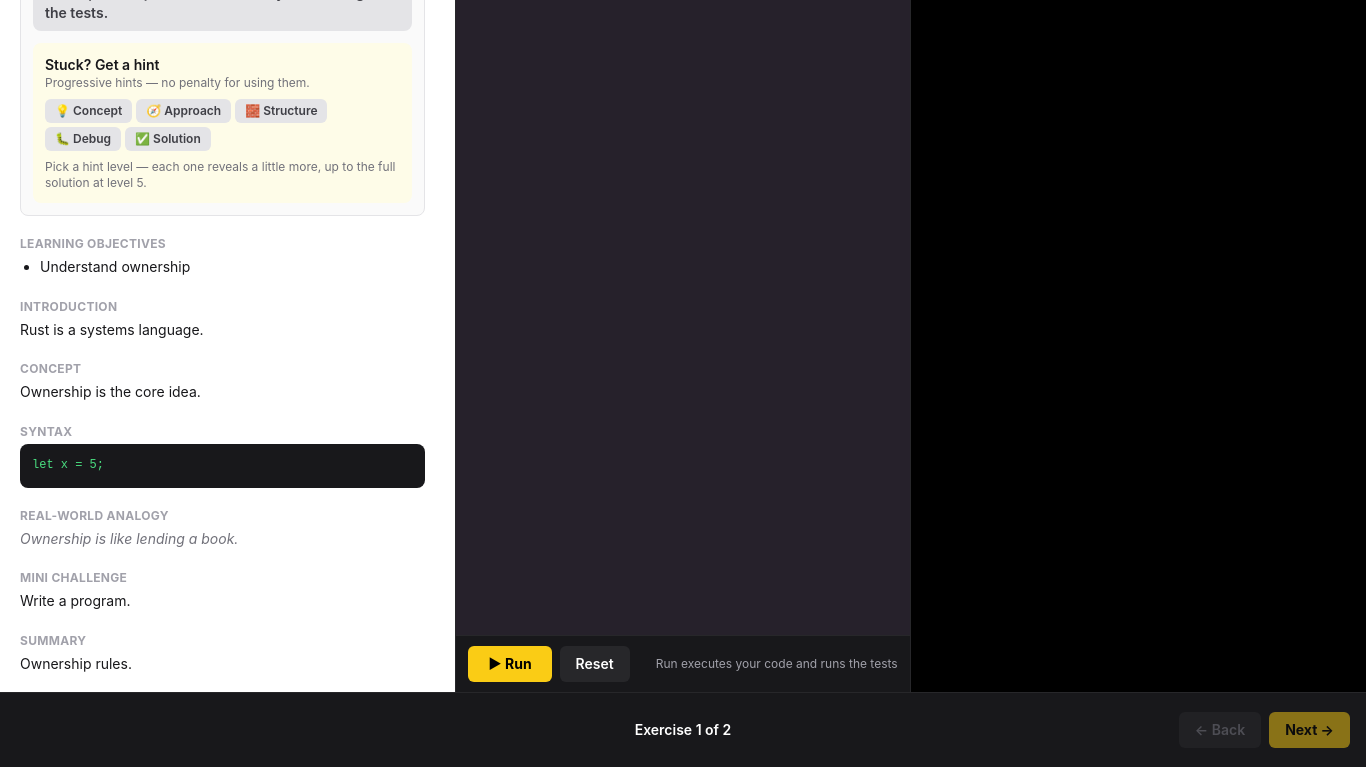
it: LessonWorkspacePage codecademy-style workspace › disables Next until the checkpoint passes, then Run flips the checkpoint and enables Next
The width and height of the screenshot is (1366, 767).
(page scrolled)
Expected: the text "Exercise 1 of 2" is shown, [635,721,731,738]
What coordinates should you click on to do the following:
click the button "▶ Run"
I would click on:
 (510, 664)
Its box is [468,646,552,682].
(page scrolled)
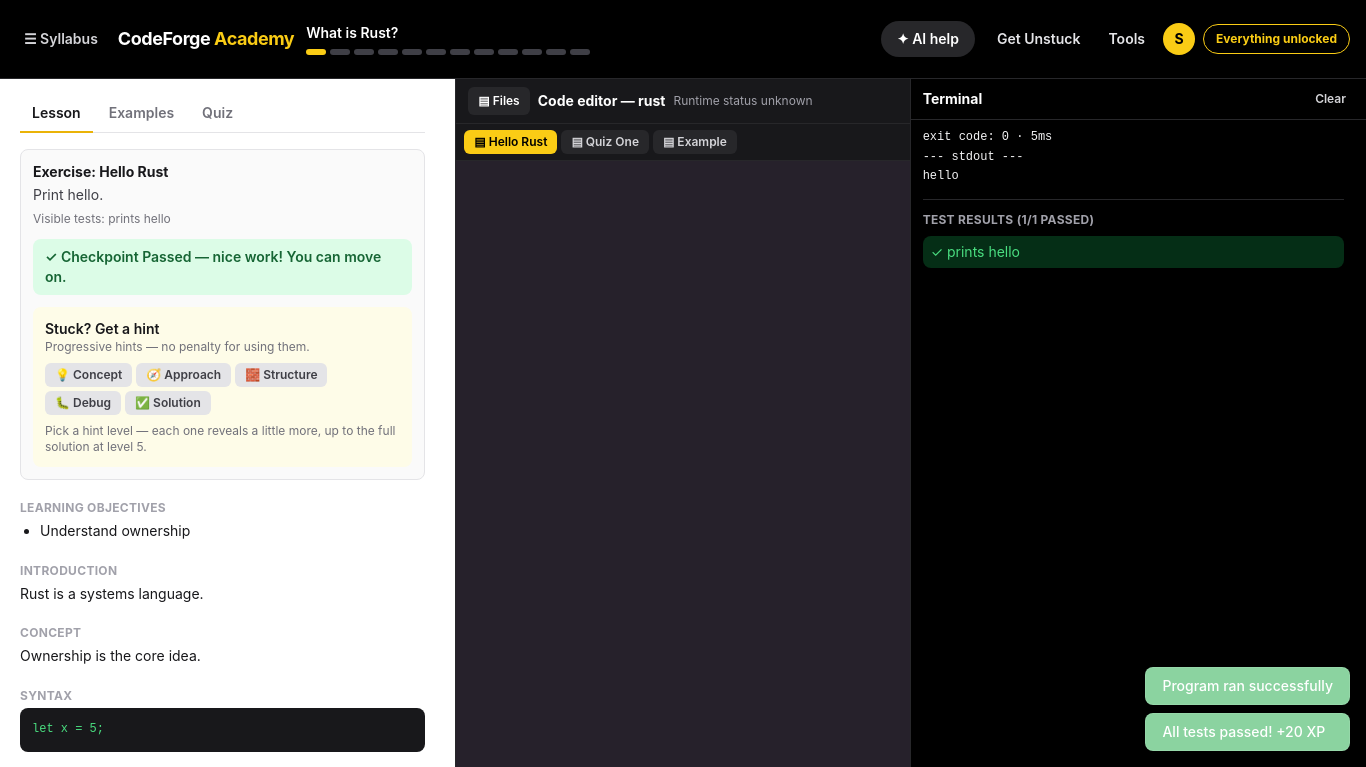
Expected: the text "✓ Checkpoint Passed — nice work! You can move on." is shown, [33,239,412,295]
Expected: the heading "Test results (1/1 passed)" is shown, [923,212,1094,226]
Expected: the text "exit code: 0 · 5ms --- stdout --- hello" is shown, [923,130,1052,183]
